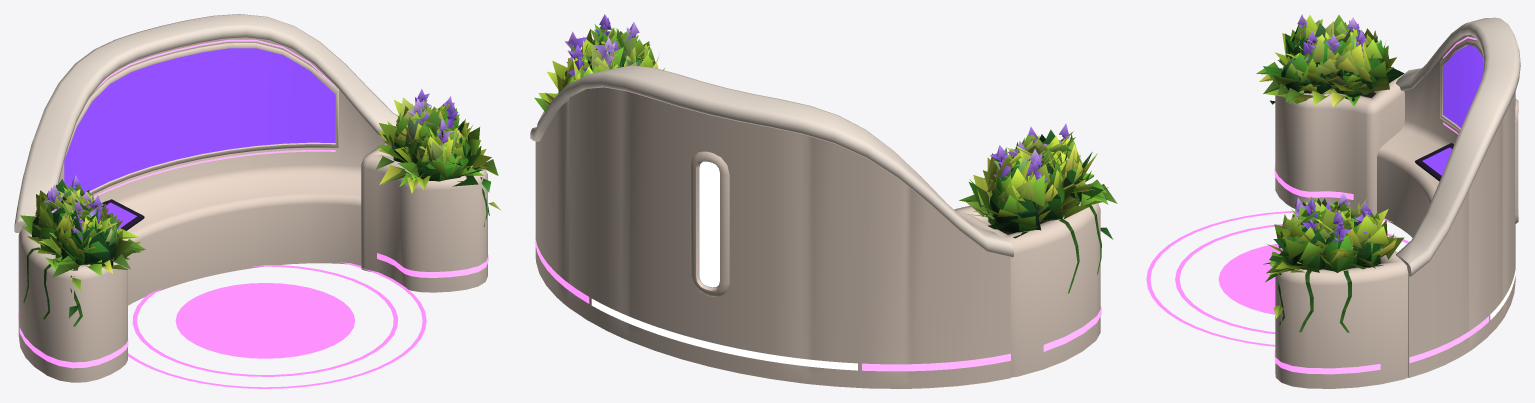
The model's file is pod_v2.glb.
The picture shows the model from 3 angles, left to right: view 1: azimuth 30°, elevation 25°; view 2: azimuth 150°, elevation 25°; view 3: azimuth 270°, elevation 25°; orthographic projection. The views are drawn at different scales.
Visible parts, largest first — view 1: Pod_Body, Pod_Screen, Pod_Leaf, Pod_Cap, Pod_Pad, Pod_Neon, Pod_Flower; view 2: Pod_Body, Pod_Leaf, Pod_Cap, Pod_Status, Pod_Neon, Pod_Flower; view 3: Pod_Body, Pod_Leaf, Pod_Cap, Pod_Pad, Pod_Screen, Pod_Neon, Pod_Flower, Pod_TabletScreen, Pod_Tablet.
Boxes of the visible parts, bbox=[...] form: Pod_Body: bbox=[18, 37, 487, 382]; Pod_Screen: bbox=[64, 48, 335, 192]; Pod_Leaf: bbox=[20, 97, 500, 326]; Pod_Cap: bbox=[14, 14, 397, 232]; Pod_Pad: bbox=[128, 262, 426, 388]; Pod_Neon: bbox=[18, 39, 488, 368]; Pod_Flower: bbox=[44, 89, 458, 238]; Pod_Body: bbox=[535, 87, 1100, 388]; Pod_Leaf: bbox=[534, 24, 1117, 293]; Pod_Cap: bbox=[530, 65, 1013, 257]; Pod_Status: bbox=[591, 161, 857, 370]; Pod_Neon: bbox=[535, 238, 1101, 371]; Pod_Flower: bbox=[565, 14, 1072, 180]; Pod_Body: bbox=[1275, 34, 1518, 388]; Pod_Leaf: bbox=[1256, 15, 1404, 332]; Pod_Cap: bbox=[1396, 17, 1520, 276]; Pod_Pad: bbox=[1146, 211, 1408, 346]; Pod_Screen: bbox=[1443, 45, 1483, 127]; Pod_Neon: bbox=[1274, 36, 1488, 374]; Pod_Flower: bbox=[1292, 14, 1374, 248]; Pod_TabletScreen: bbox=[1422, 147, 1452, 175]; Pod_Tablet: bbox=[1415, 143, 1453, 181].
Bounding box in the file's own units: 3.17 × 1.5 × 2.27.
